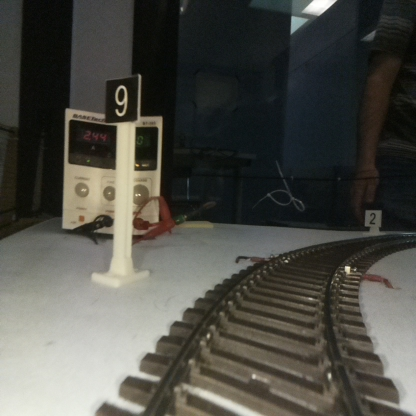black-info-9: (105, 78, 139, 283)
white-stop-2: (365, 210, 381, 234)
